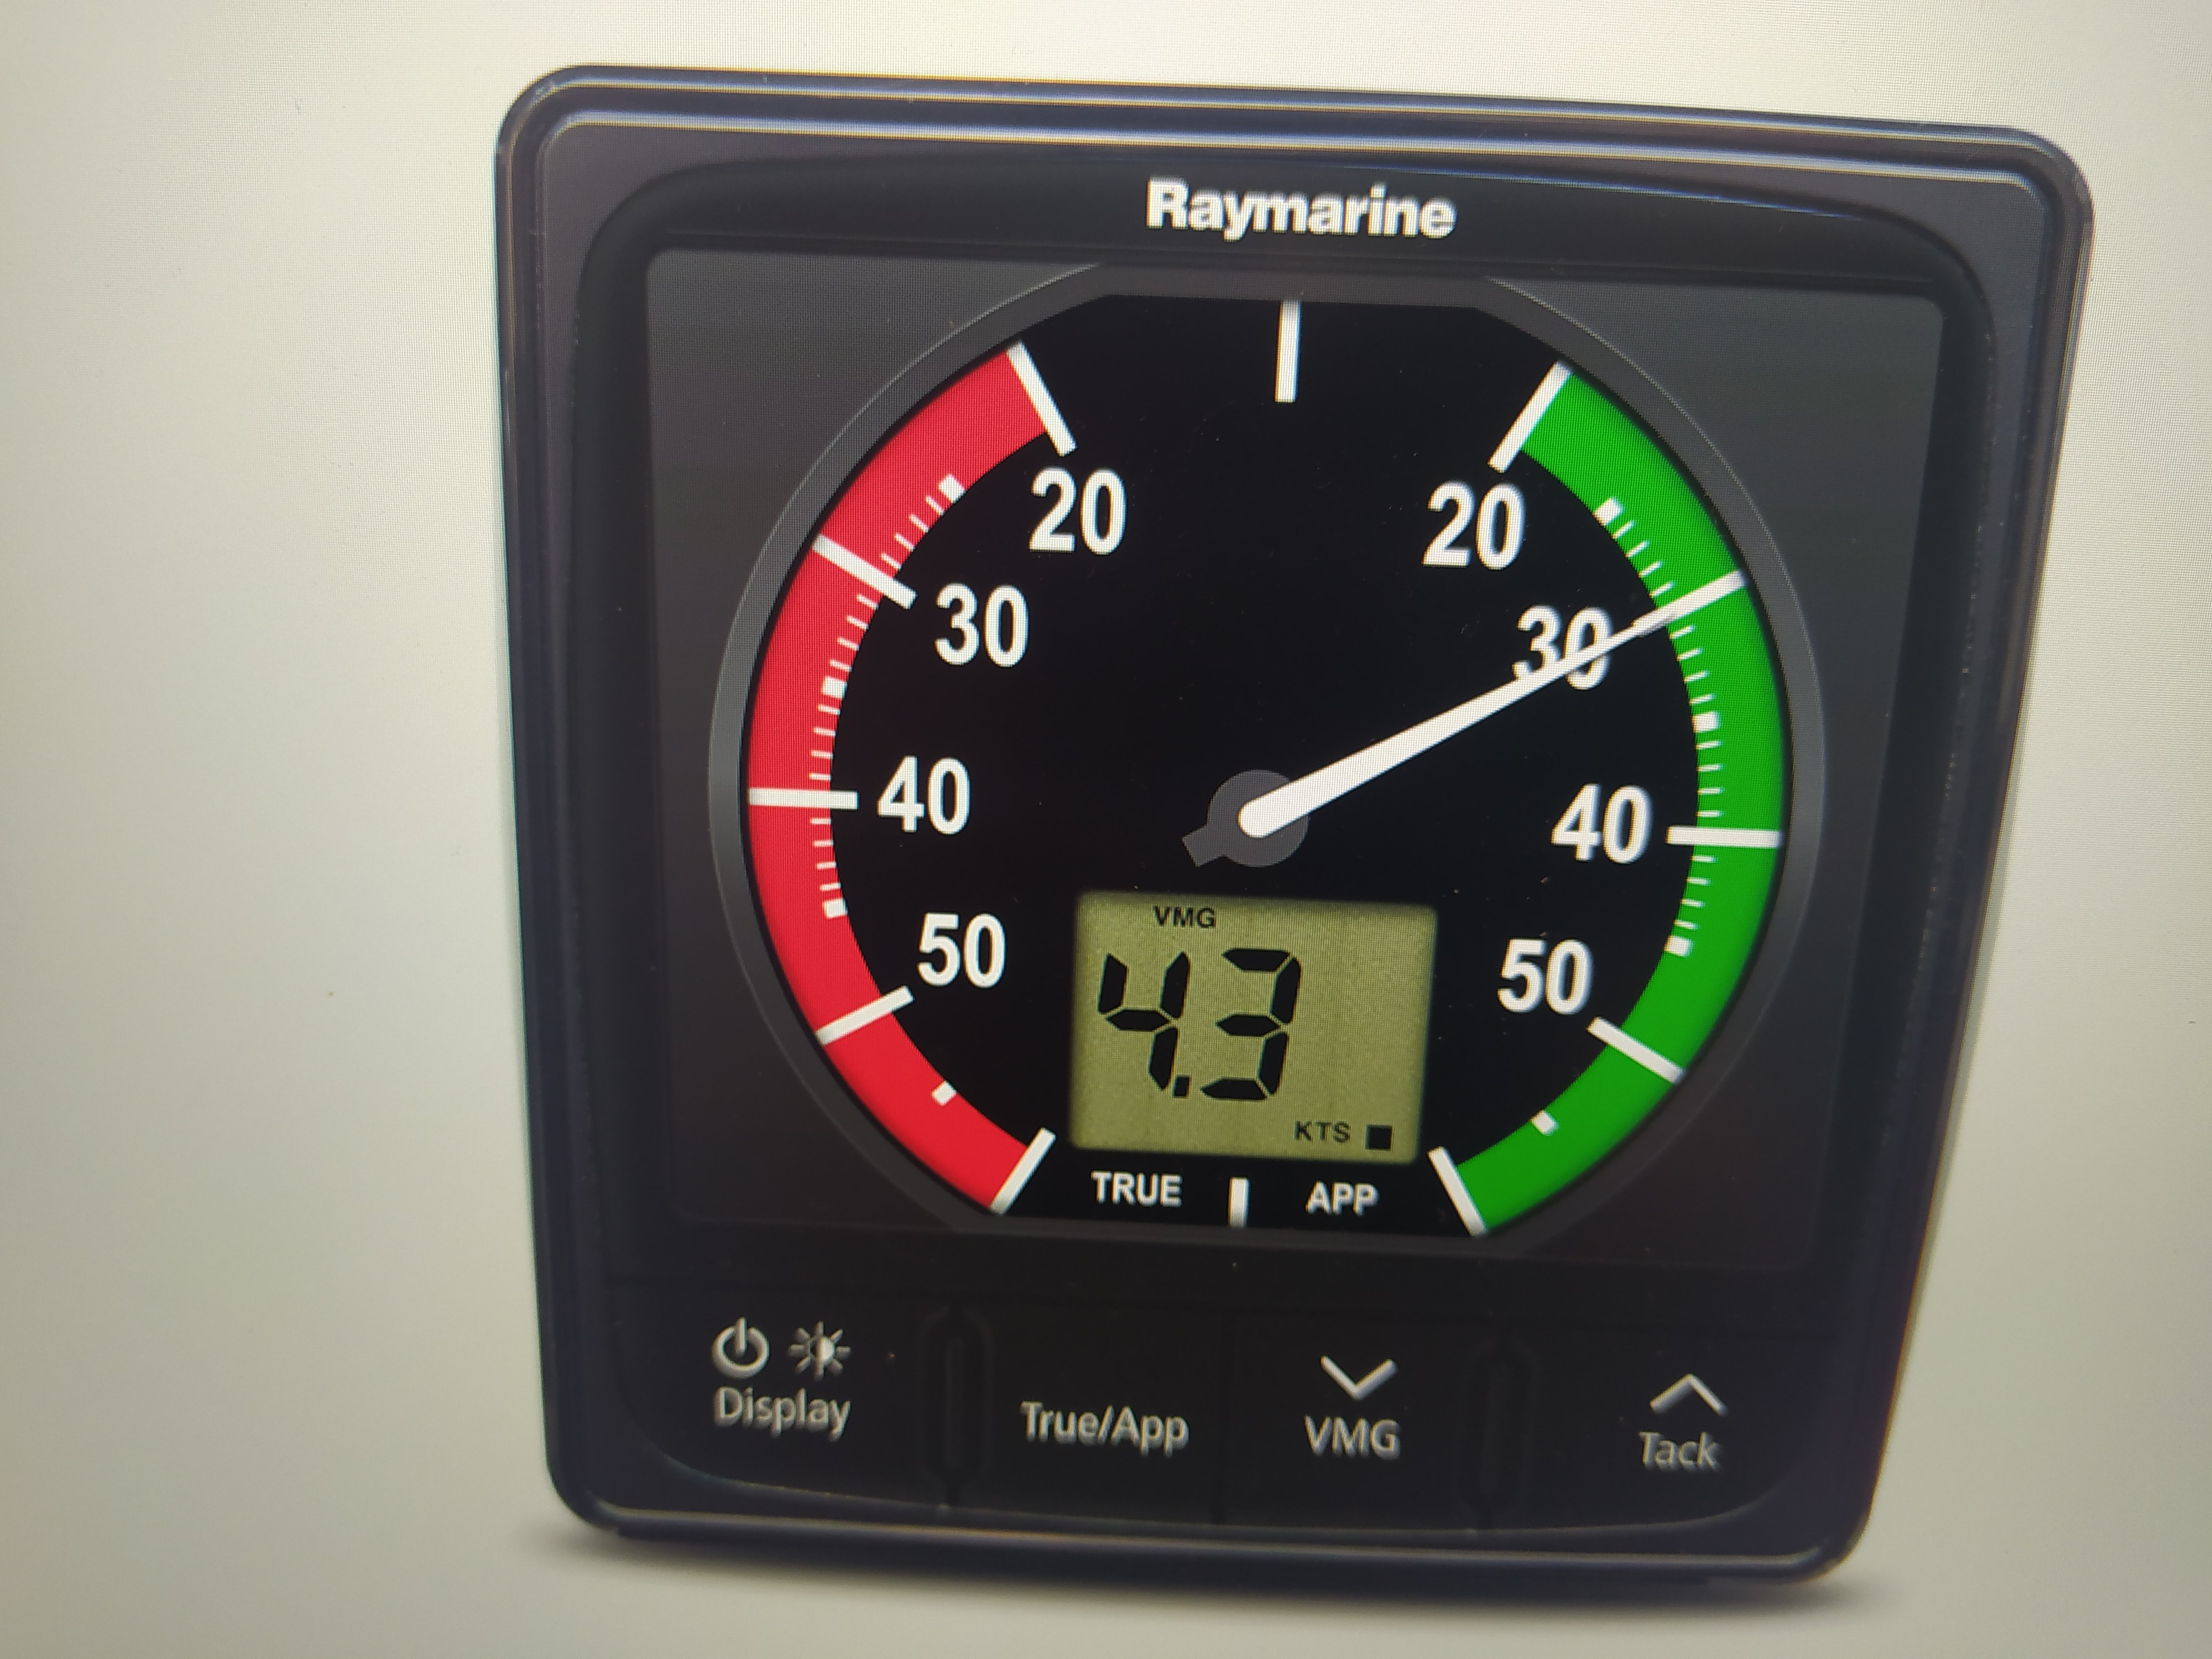.: (1177, 965, 1221, 1119)
0: (923, 748, 979, 857), (1545, 920, 1599, 1019), (989, 582, 1042, 683), (1479, 474, 1533, 568), (1076, 467, 1129, 558), (965, 901, 1010, 992), (1604, 775, 1651, 863), (1564, 603, 1611, 688)
2: (1024, 462, 1078, 559), (1423, 476, 1475, 575)
3: (1226, 943, 1298, 1124), (1519, 606, 1562, 692), (937, 582, 972, 674)
4: (1101, 945, 1184, 1114), (1550, 777, 1602, 870), (871, 748, 918, 843)
5: (1494, 920, 1541, 1016), (921, 906, 965, 1000)
